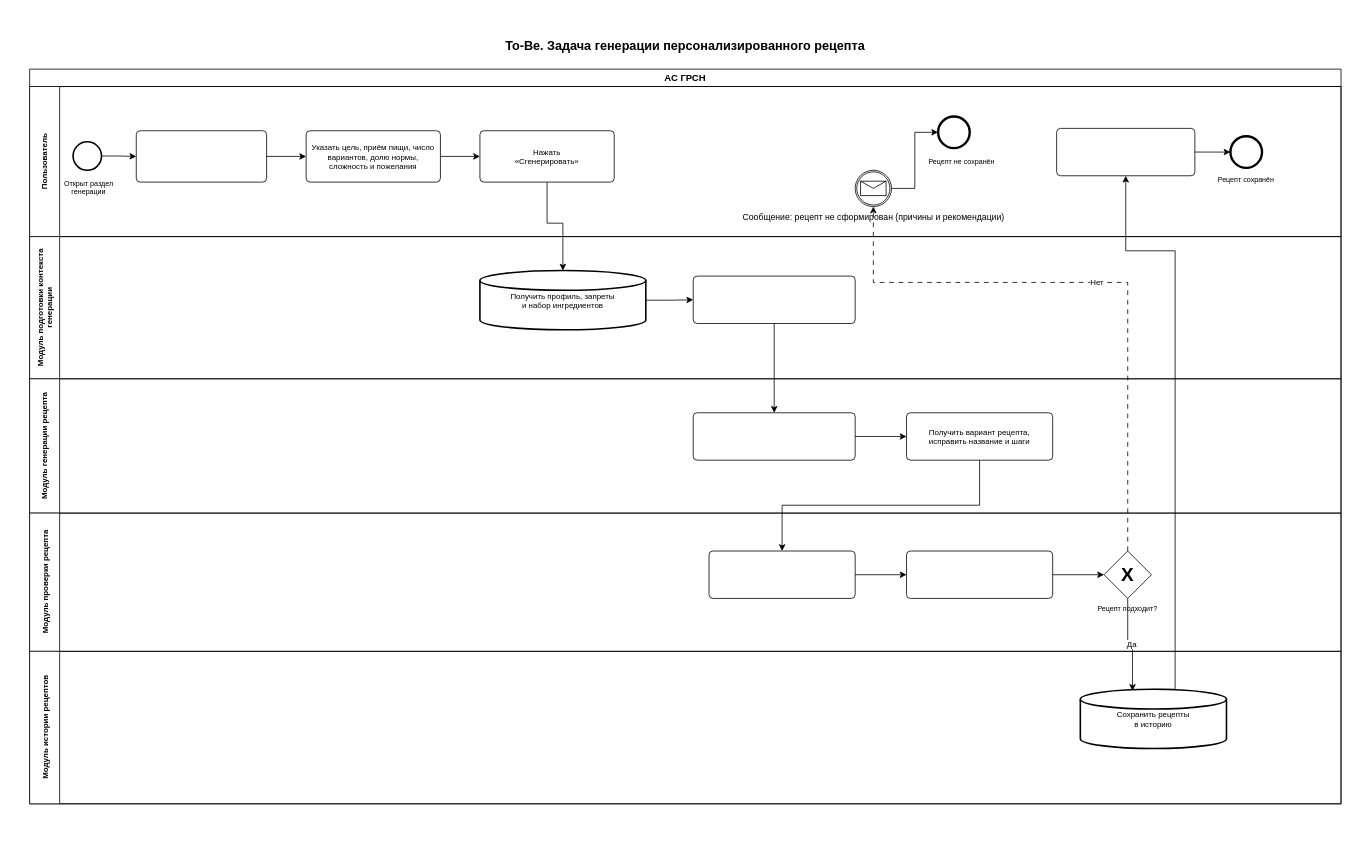
The diagram is 1370 pixels wide and 856 high, and some of its shapes have lost their labels. The shapes that lost their labels are listed below. From the top down, each one's centre as x and y in pixels, then its label:
the point at 201,156: Открыть страницу генерации рецепта
the point at 1125,152: Просмотреть варианты и добавить в рацион
the point at 773,299: Подготовить контекст: цель, запреты, набор, пожелания и оценки
the point at 773,436: Запрос к GigaChat (если недоступен — локальный генератор)
the point at 781,574: Подобрать массы ингредиентов (оптимизация)
the point at 979,574: Рассчитать БЖУ, проверить запреты и отклонение
